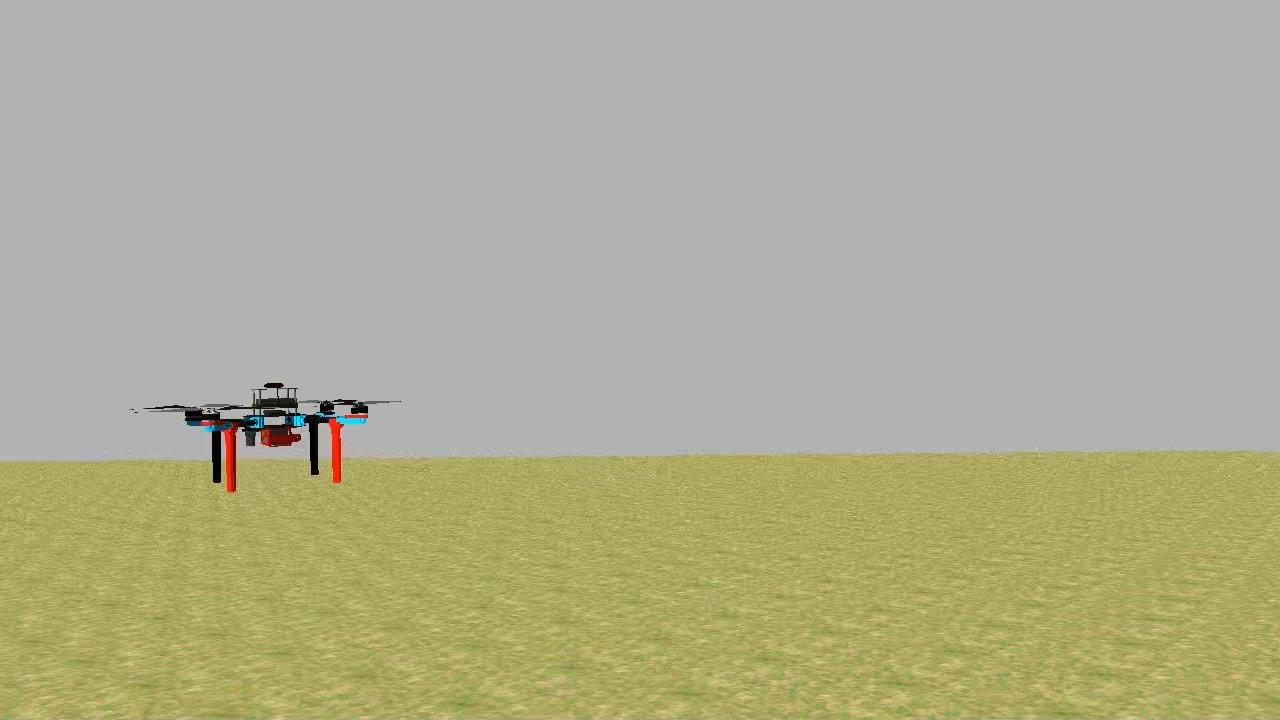UAV: (180, 378, 372, 496)
